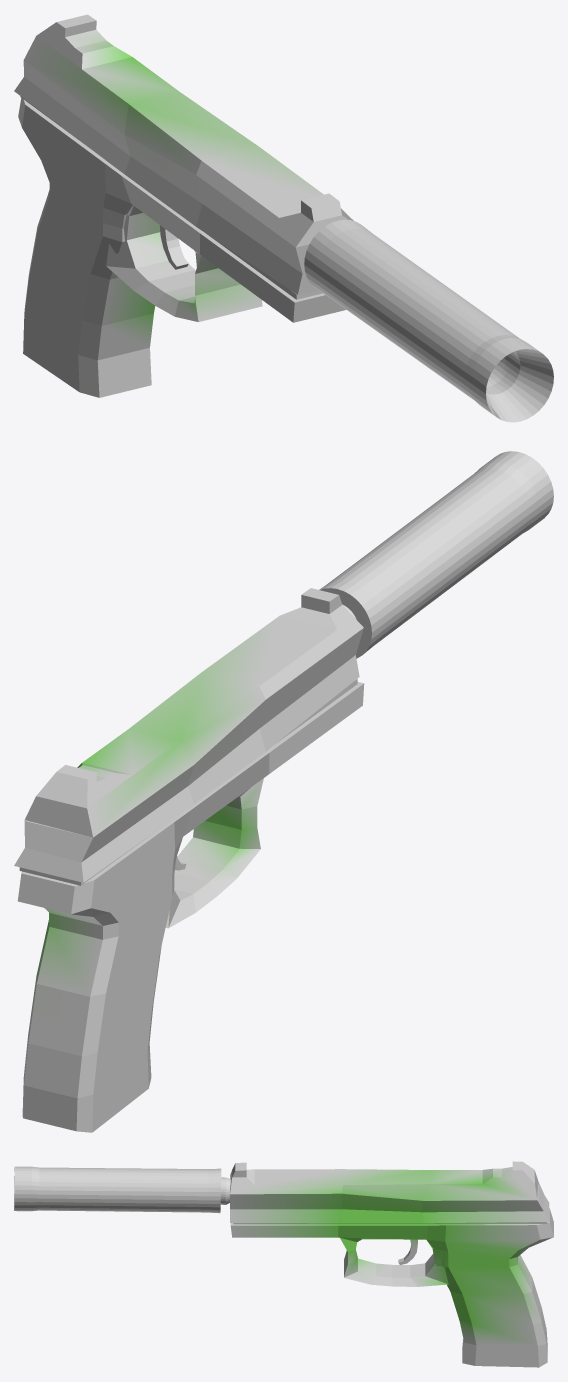
File: pistol.fbx
3 renders of one model, top to bottom at view 1: azimuth 30°, elevation 25°; view 2: azimuth 150°, elevation 25°; view 3: azimuth 270°, elevation 25°, orthographic. The views are drawn at different scales.
Parts seen in each view (by area): view 1: Cube, Circle; view 2: Cube, Circle; view 3: Cube, Circle.
Boxes of the visible parts, x1=… form: Cube: x1=14, y1=14, x2=353, y2=397; Circle: x1=304, y1=219, x2=553, y2=422; Cube: x1=14, y1=588, x2=364, y2=1132; Circle: x1=319, y1=451, x2=553, y2=658; Cube: x1=230, y1=1161, x2=553, y2=1367; Circle: x1=14, y1=1166, x2=230, y2=1213.
Bounding box in the file's own units: 11.32 × 52.41 × 134.
